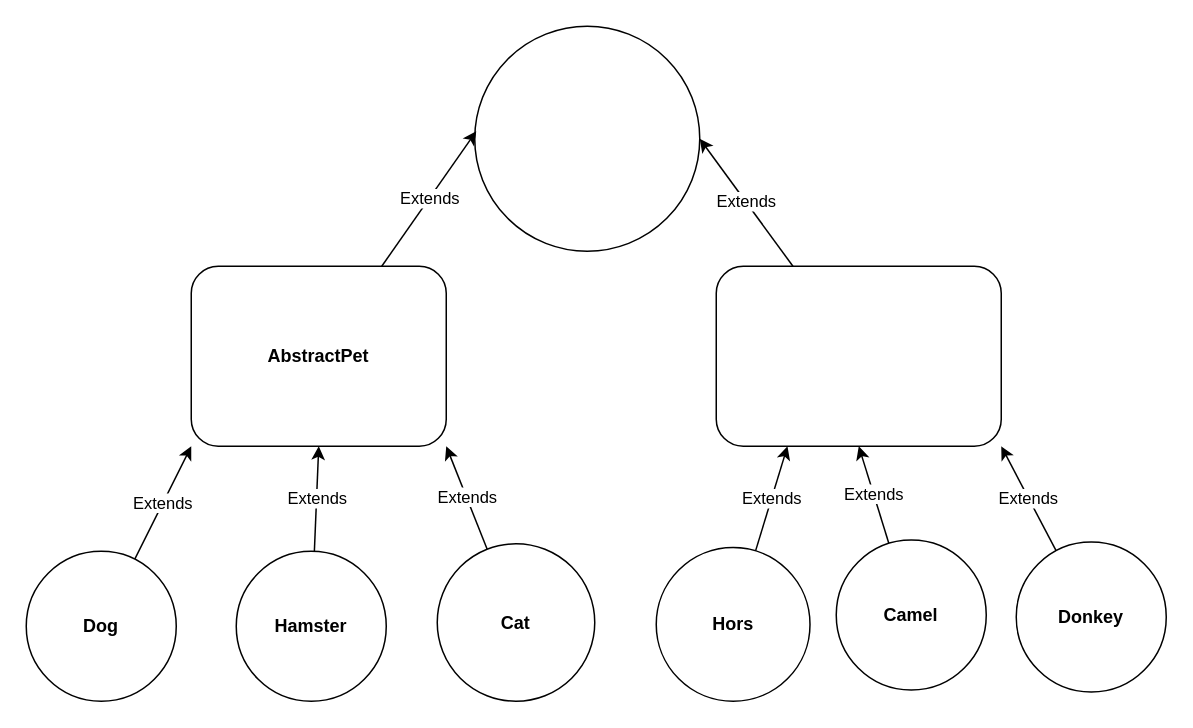
Some shapes in this 1193 by 728 pixel diagram are drawn without their labels. Here are the shapes that lost their labels. From the top down, the centre of each, then its label:
At point 586,138: "AbstractAnimal".
At point 858,355: "AbstractPackAnimal".
